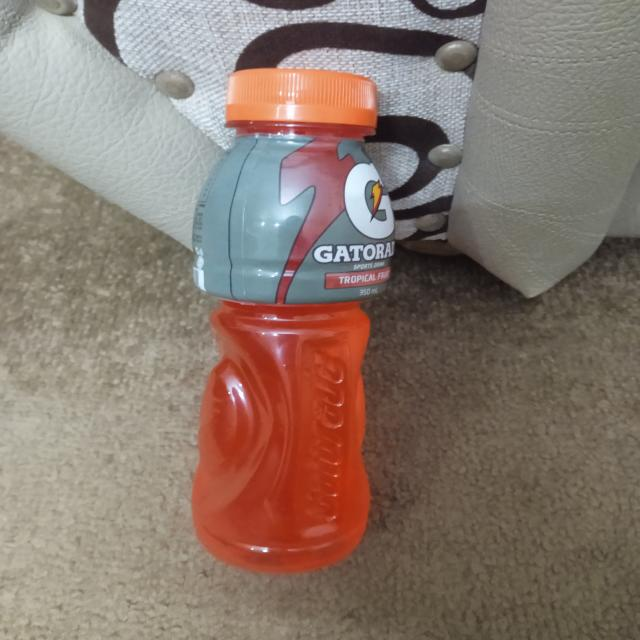Plastic: (180, 55, 420, 583)
